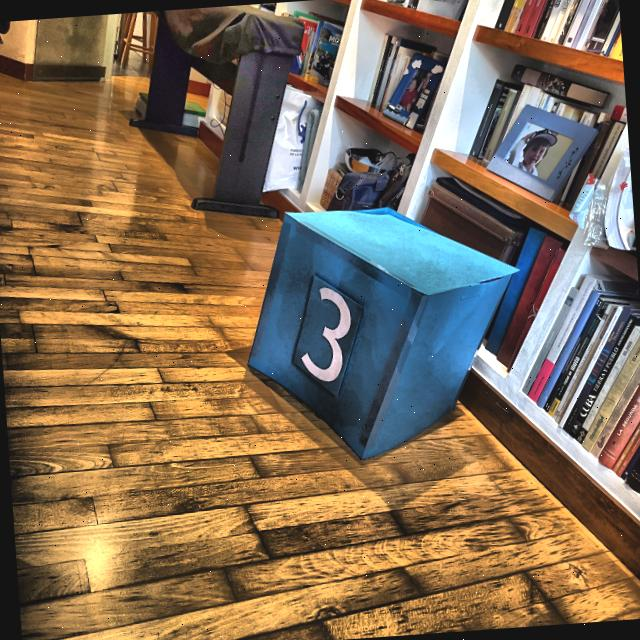blue box: (244, 191, 516, 466)
three: (290, 266, 364, 394)
